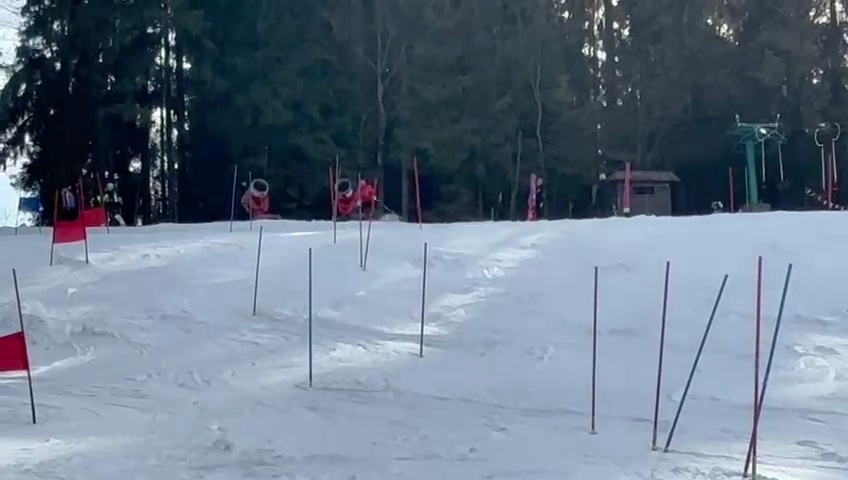gate: (661, 262, 734, 457), (743, 250, 803, 480), (4, 264, 42, 426), (650, 255, 672, 451), (583, 260, 603, 438), (301, 246, 321, 391), (414, 238, 432, 360), (362, 172, 379, 275), (73, 181, 92, 264), (356, 170, 371, 275), (46, 184, 64, 267), (251, 222, 266, 321), (410, 152, 428, 230), (324, 158, 340, 239), (96, 170, 113, 238), (225, 163, 239, 234), (353, 208, 366, 274), (244, 170, 256, 233), (527, 171, 540, 221)
